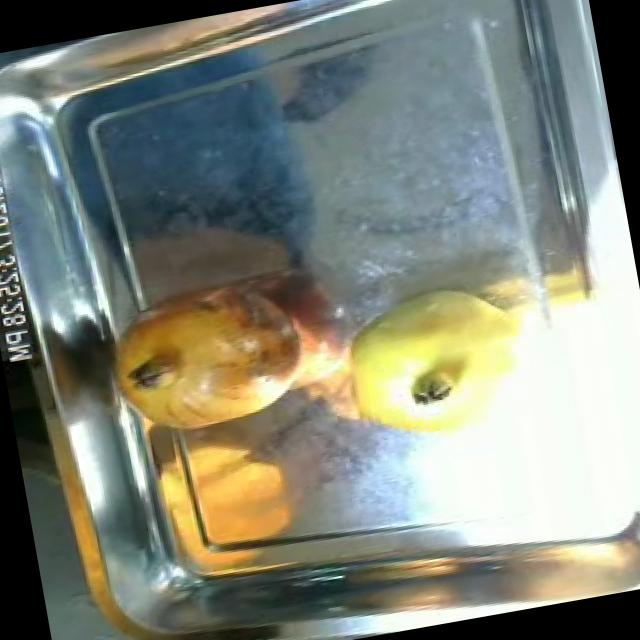fruit: (89, 256, 334, 450), (316, 262, 550, 460)
